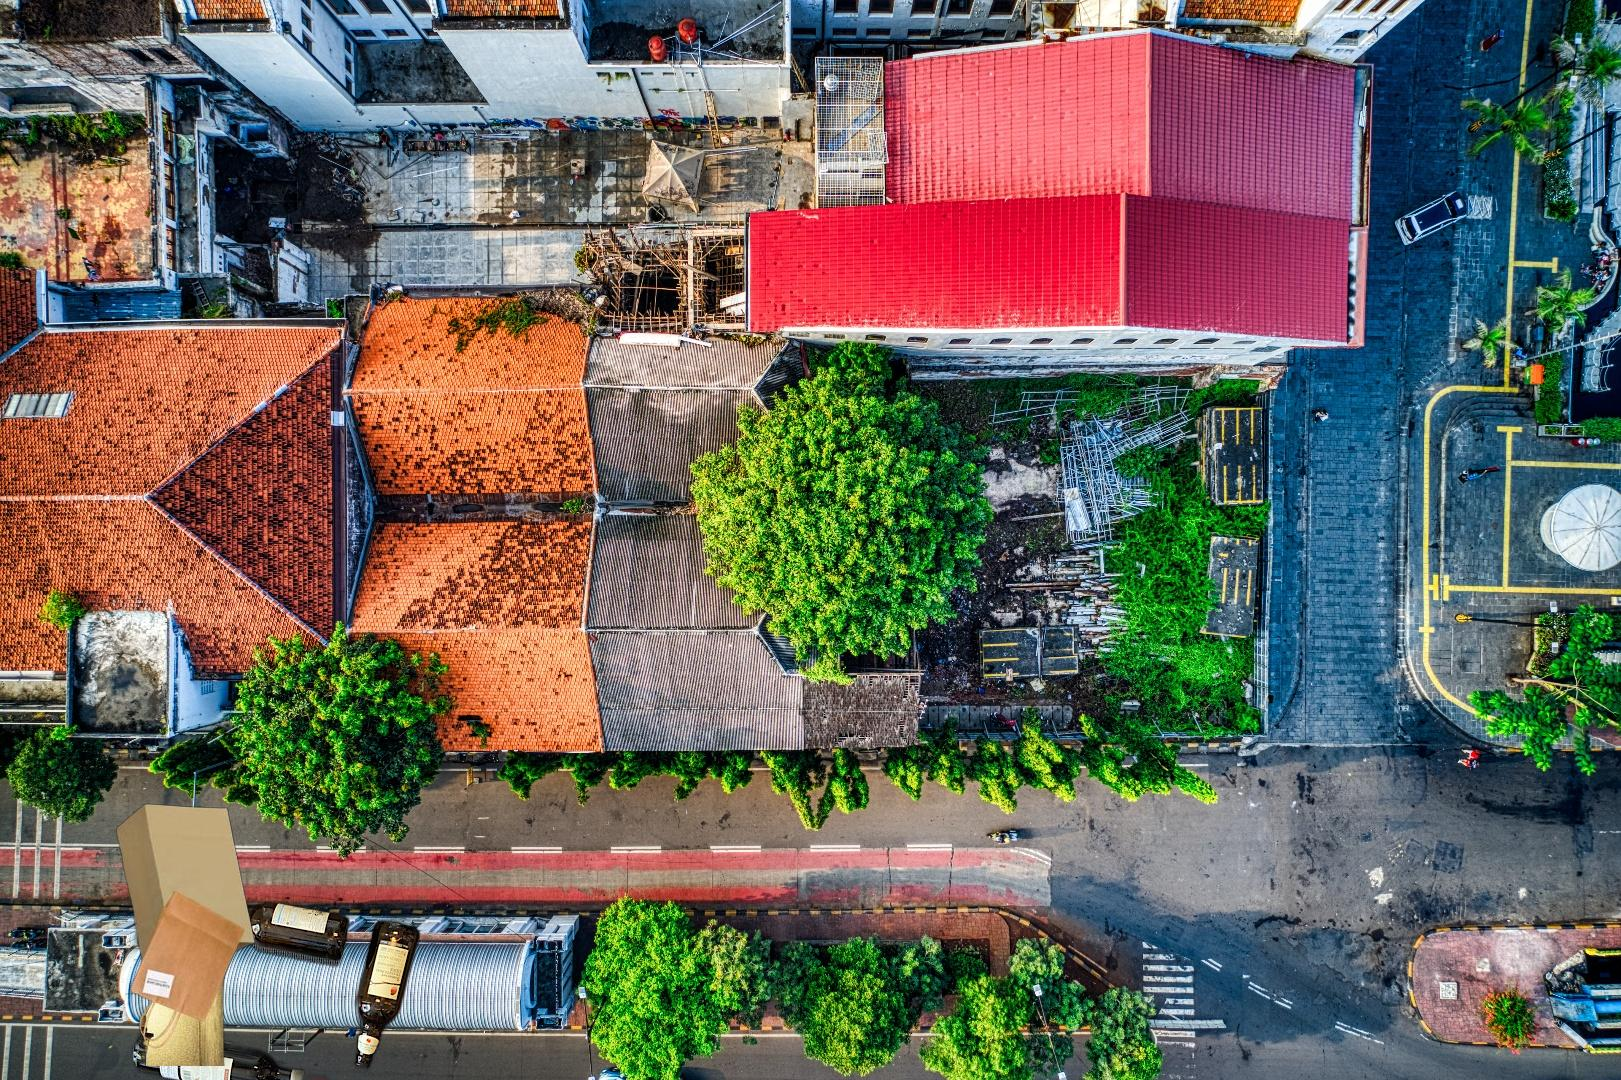glass: (128, 896, 431, 1080)
paper-bag: (114, 802, 258, 1066)
